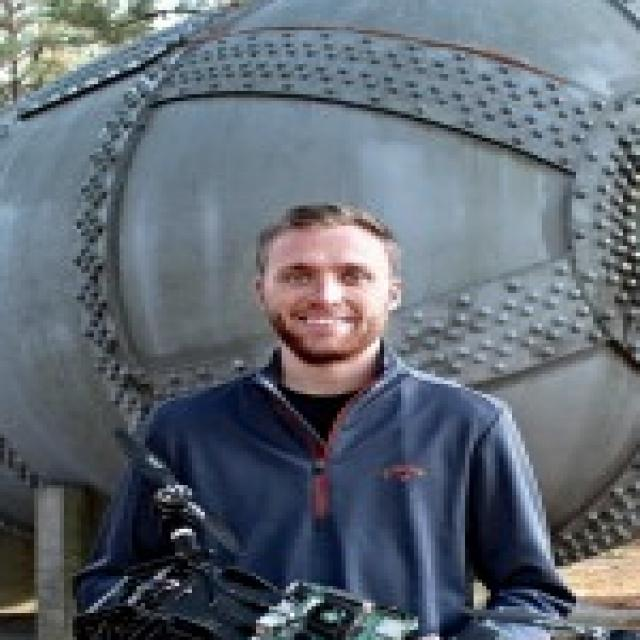drone: (0, 417, 640, 640)
